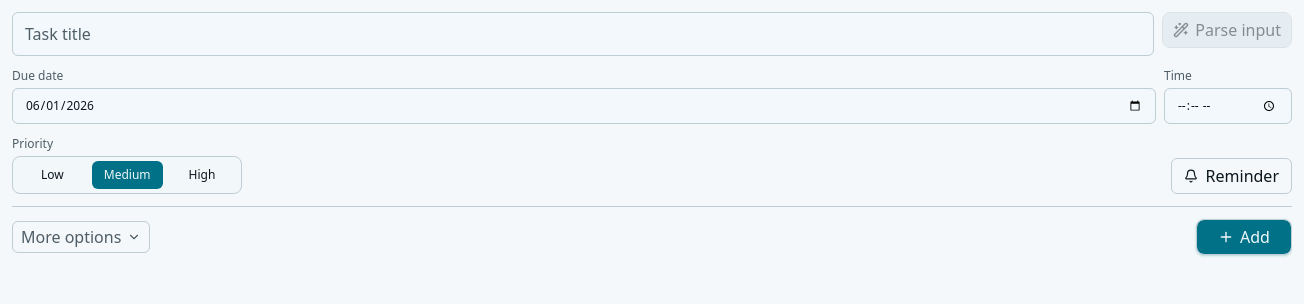
Test: TaskComposer › blocks empty titles with an inline error
Click the button "Add".
click(1244, 237)  # box [1196,219,1292,255]
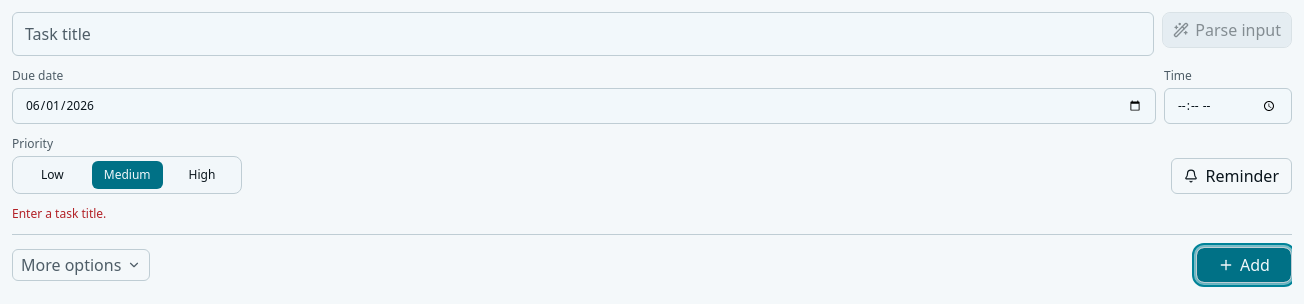
Now the text "Enter a task title." is shown, box [12,205,106,222]
